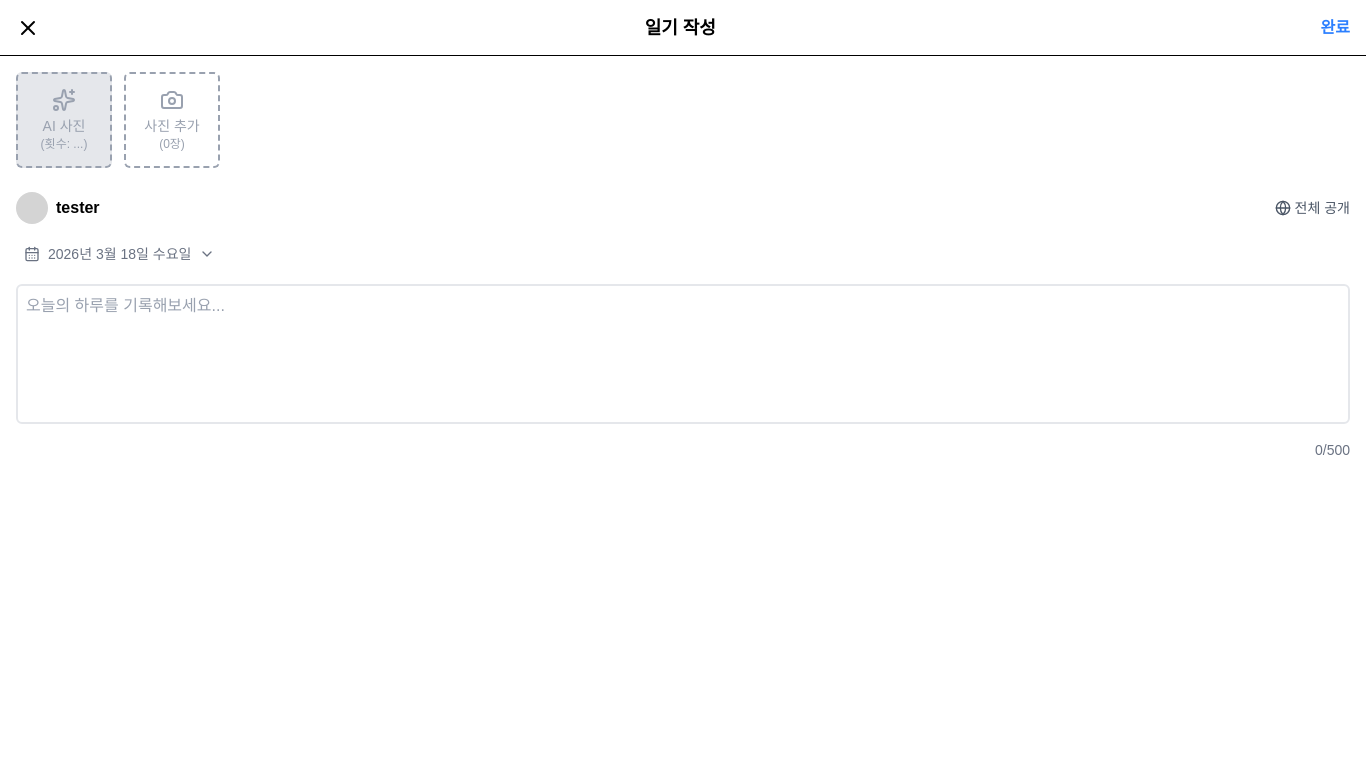
Test: DiaryCreateForm › 작성된 날짜 조회에 실패하면 날짜 선택을 막고 재시도 안내를 보여준다
Click the button "2026년 3월 18일" at (120, 254), box [16, 240, 224, 268]
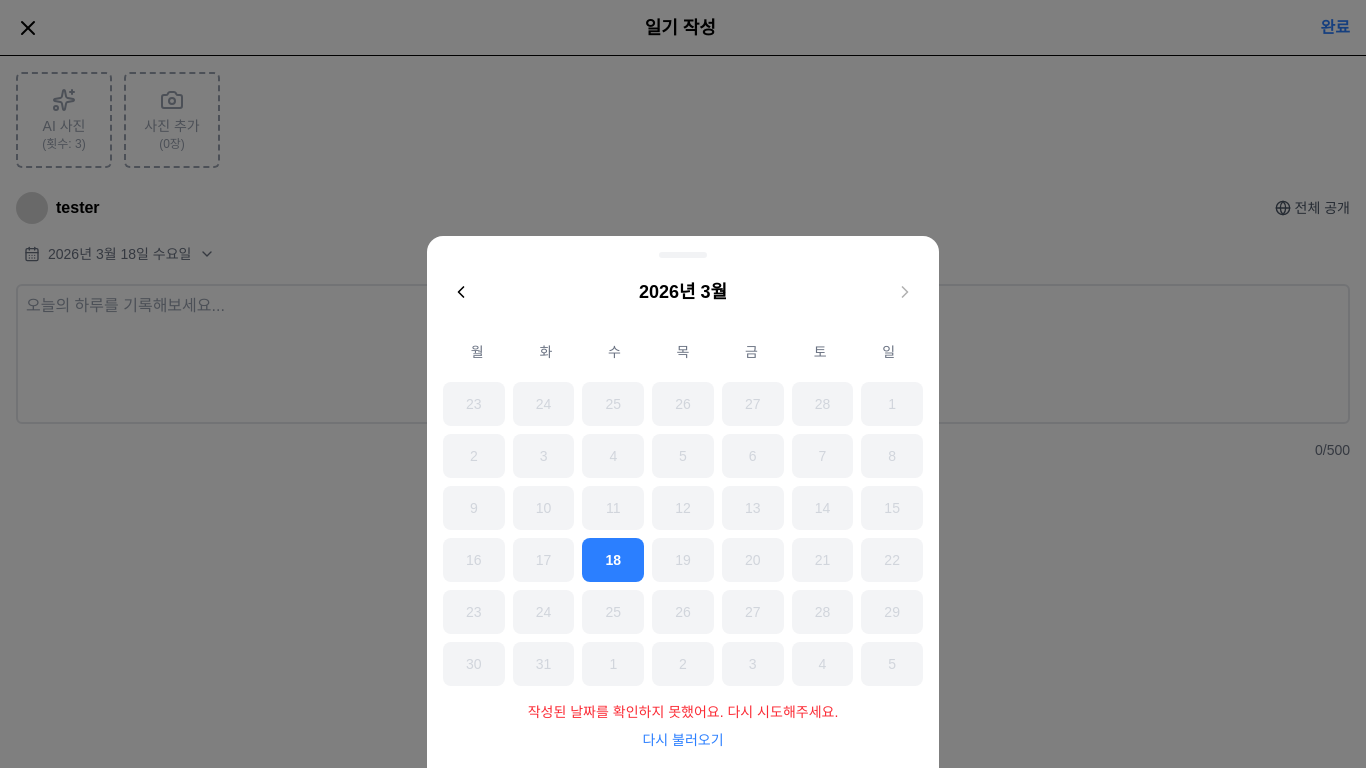
Check: the button "다시 불러오기" is shown, box [642, 730, 724, 750]
Check: the button with test id "date-cell-2026-03-18" is disabled, box [582, 538, 644, 582]
